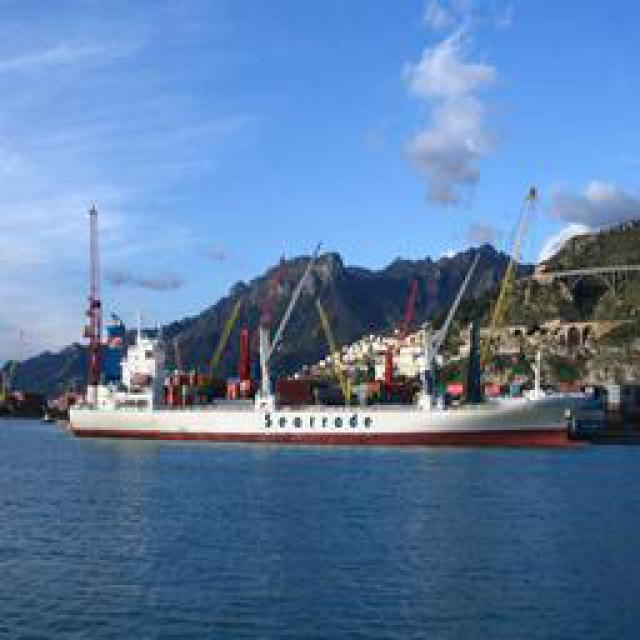Ship: (55, 382, 623, 450)
